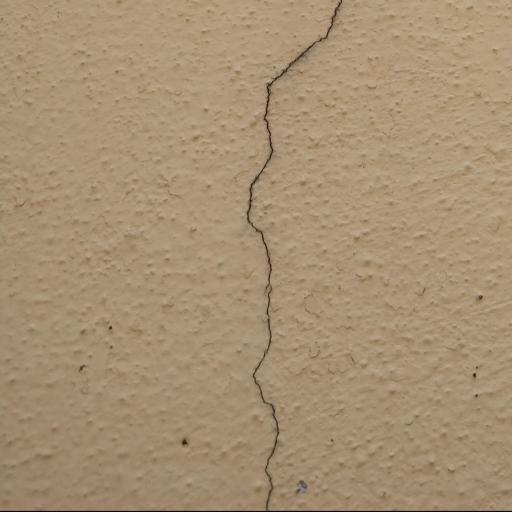minor_crack: (240, 0, 351, 512)
